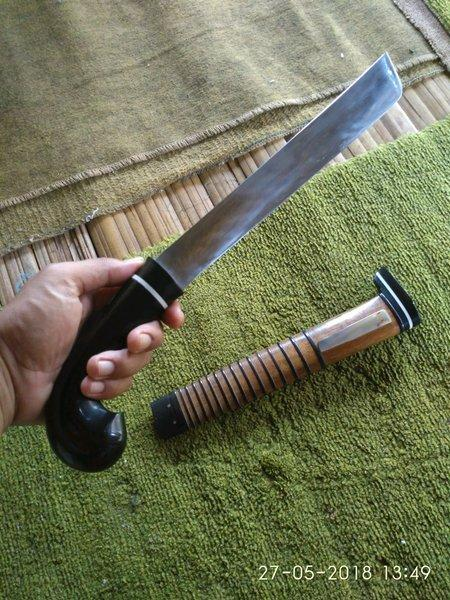facao: (46, 54, 400, 471)
